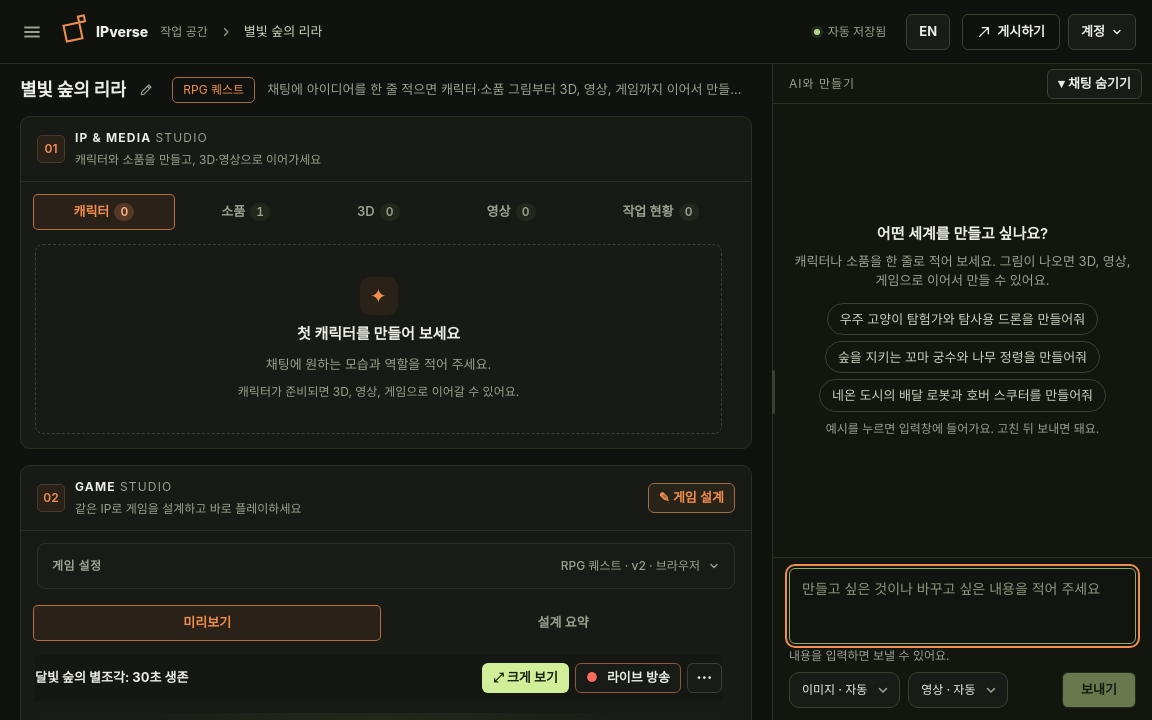
Test: R20-39 ✎ 게임 설계 with a game on screen leads to 이 게임 수정 › opens the edit drawer of the newest game in place of the new-game form
Click the button "✎ 게임 설계". click: coordinates (691, 498)
box: [648, 483, 735, 513]
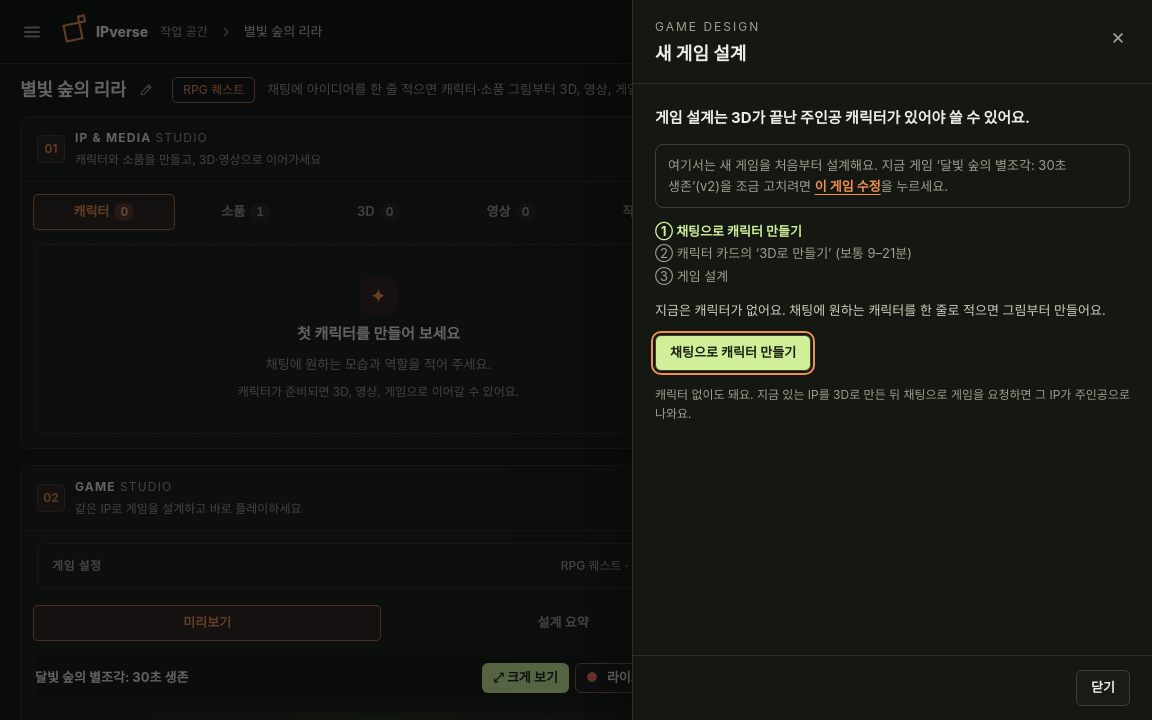
expect the heading with id "design-title" reads "새 게임 설계": met, box [655, 43, 746, 64]
Click the button "이 게임 수정". click: coordinates (848, 186)
box: [815, 176, 881, 197]
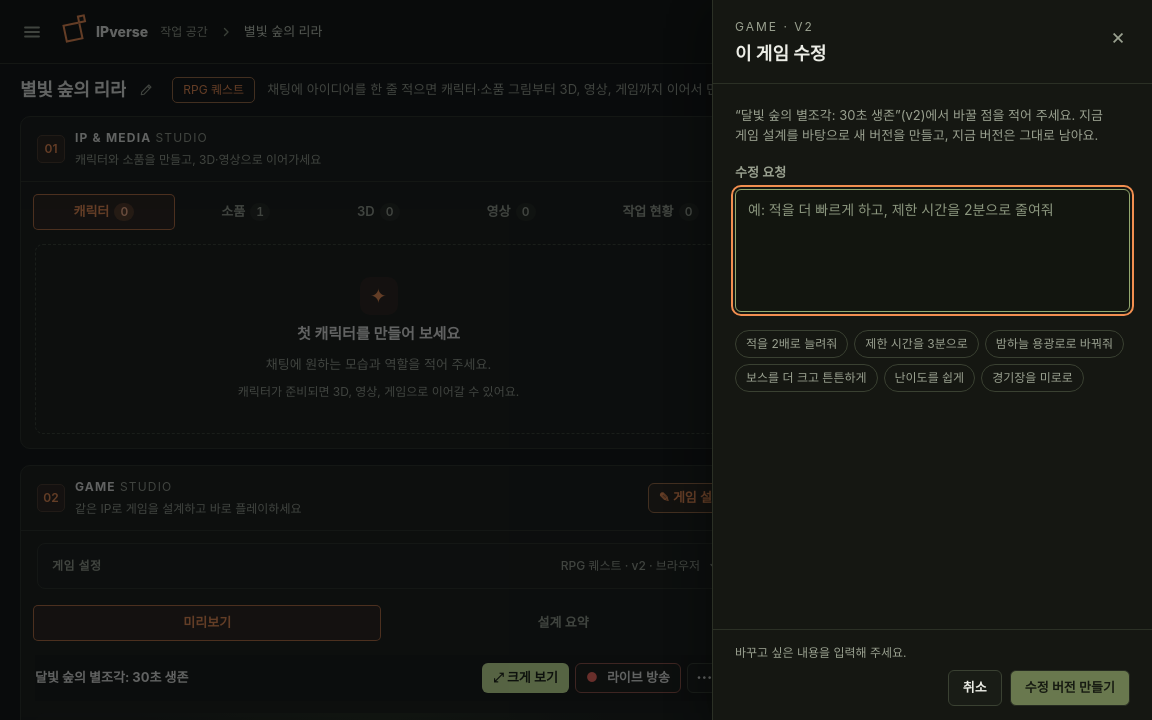
expect the heading with id "game-edit-title" reads "이 게임 수정": met, box [735, 43, 826, 64]
expect the heading with id "design-title" is gone: met
expect the text with id "game-edit-intro" shows "“달빛 숲의 별조각: 30초 생존”(v2)": met, box [735, 107, 1103, 142]
